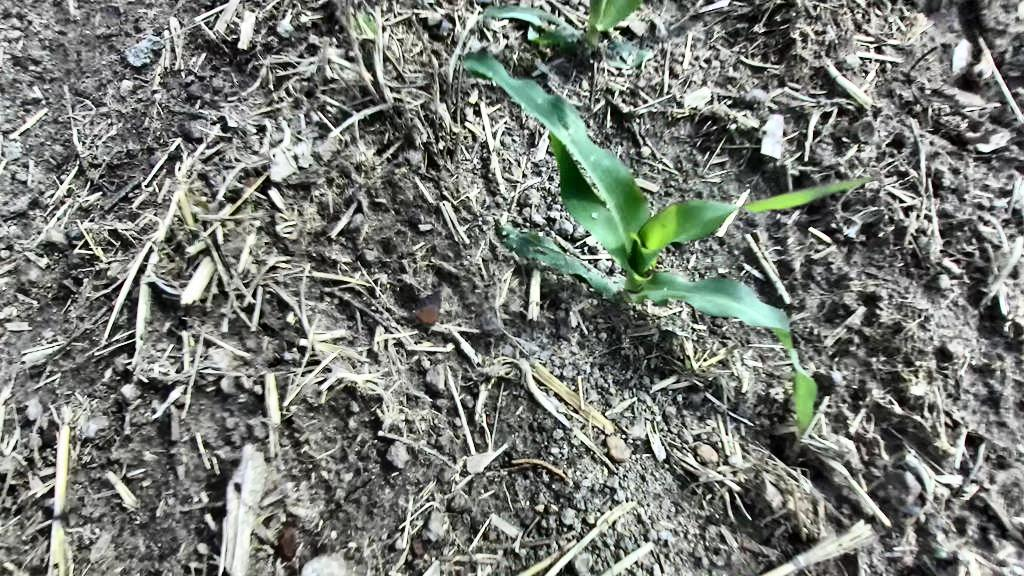BroWeed: (923, 539, 955, 565), (356, 11, 378, 39)
Maize: (383, 46, 888, 438), (485, 0, 654, 70)
